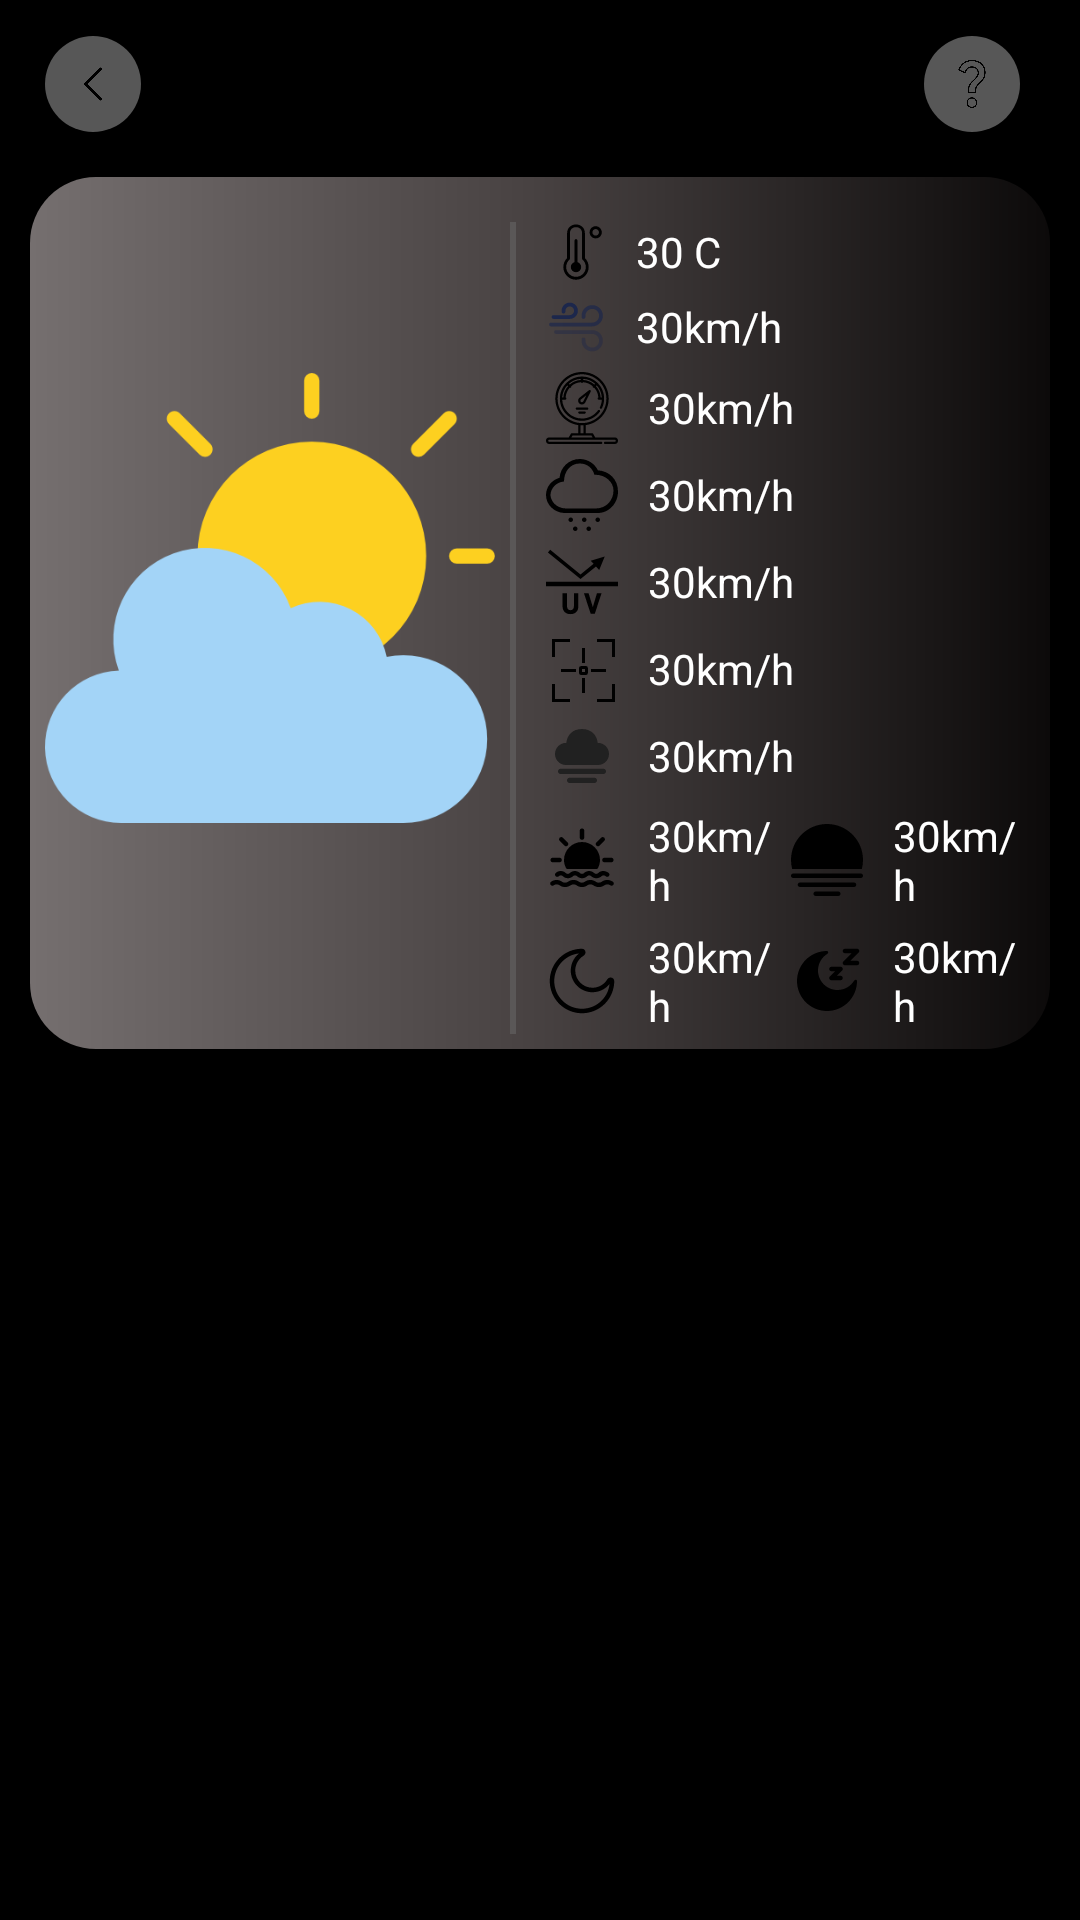

Icon click points for this 1080px×1920px phone screenshot, format point (x, y):
back: point (93, 84)
question: point (972, 84)
